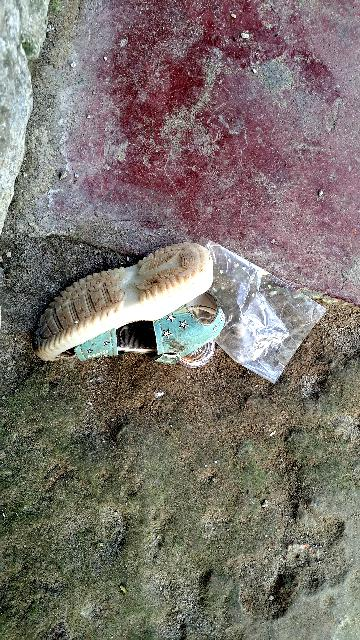sandal: (38, 224, 228, 371)
